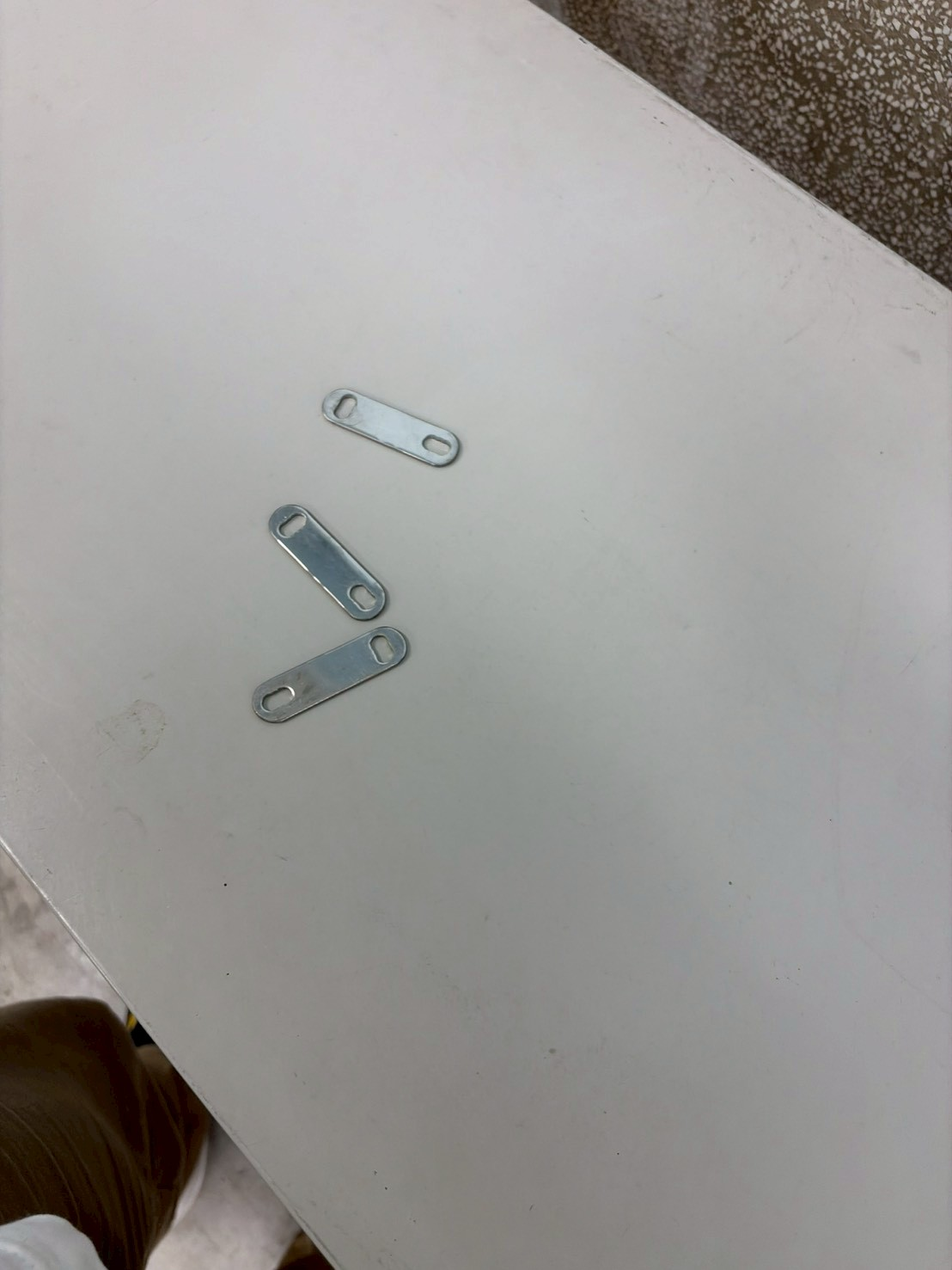Fe: (250, 629, 428, 728), (271, 507, 389, 620), (317, 386, 458, 466)
